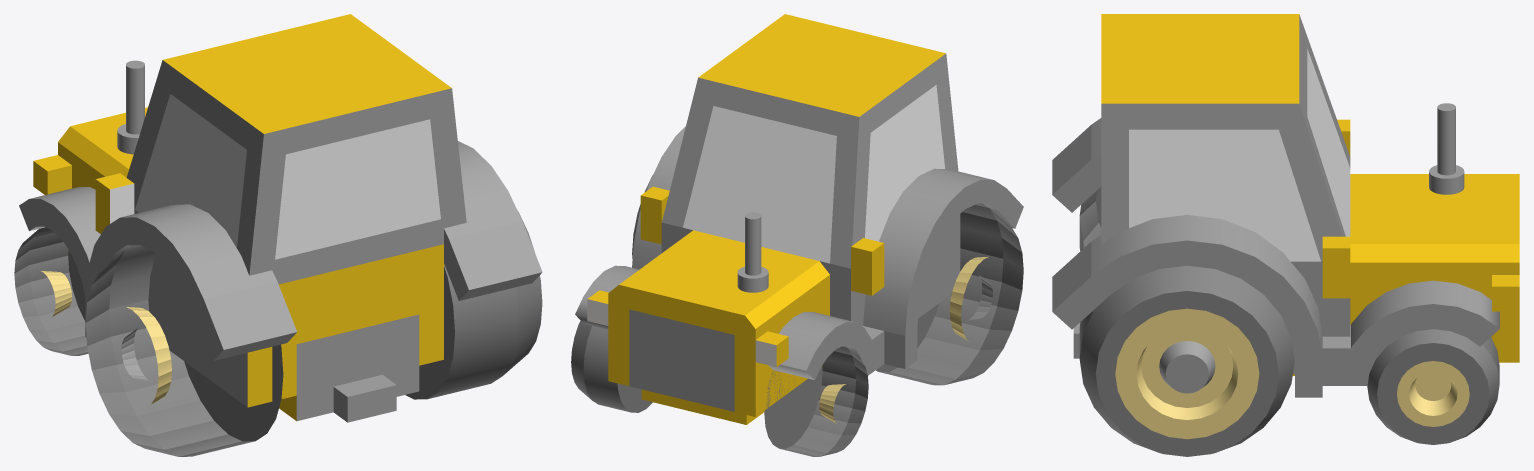
The model's file is tractor.glb.
3 renders of one model, left to right at view 1: azimuth 30°, elevation 25°; view 2: azimuth 150°, elevation 25°; view 3: azimuth 270°, elevation 25°, orthographic. The views are drawn at different scales.
Visible parts, largest first — view 1: body; view 2: body; view 3: body.
Part boxes in pixels (<box>): body: <box>14,14,542,456</box>; body: <box>571,14,1023,456</box>; body: <box>1052,14,1519,456</box>.
Bounding box in the file's own units: 1.66 × 1.46 × 1.9.
